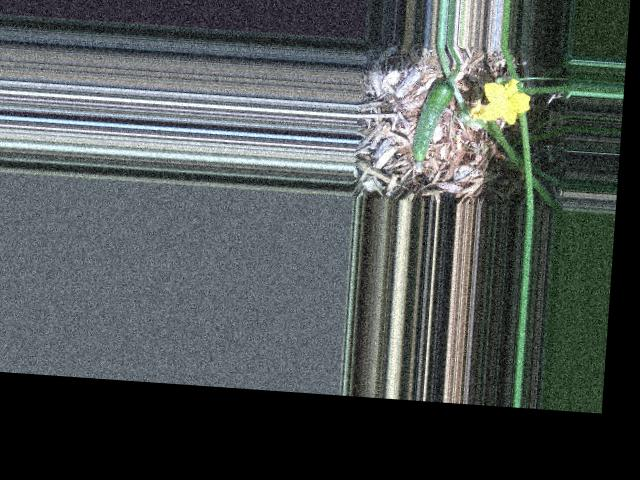cucumber: (410, 77, 455, 172)
